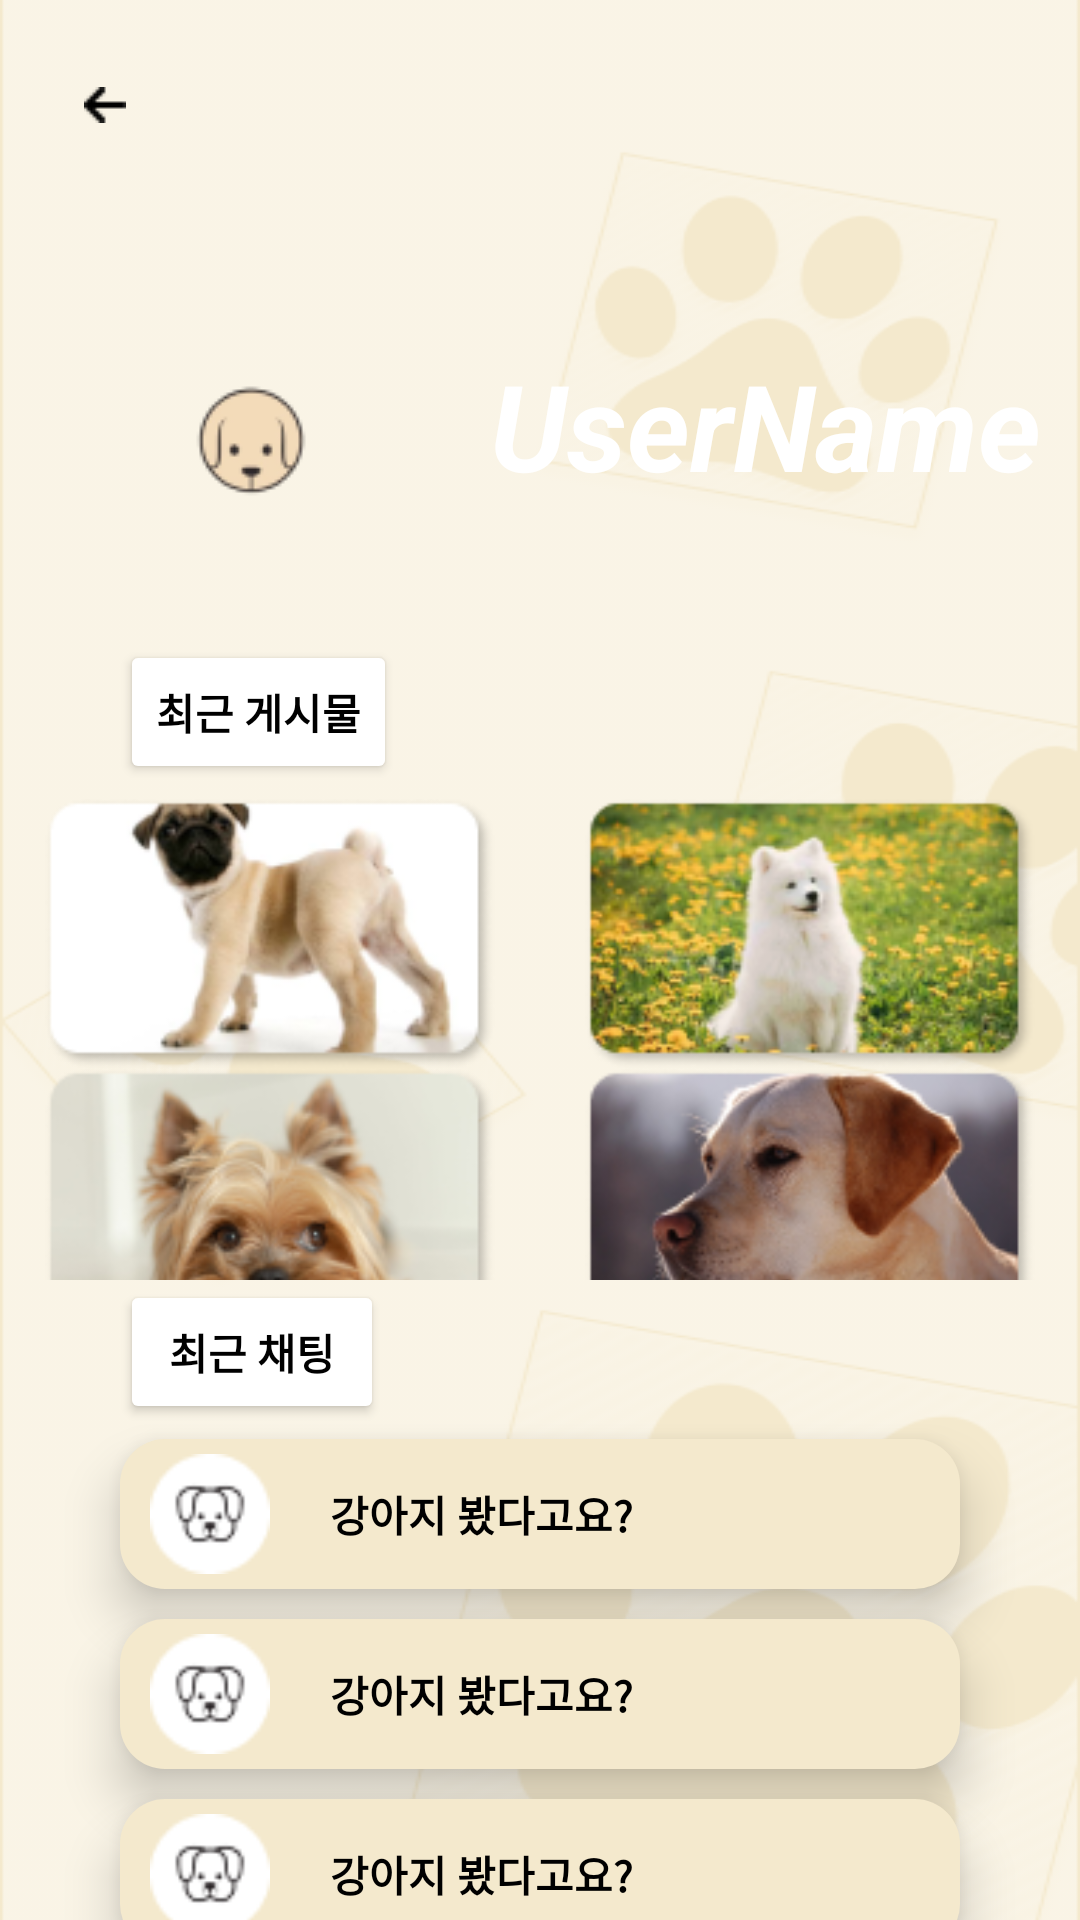

Point at icon controls on the screen. Image size 1080px x 1920px, points as point (x, y).
backicon: point (105, 105)
